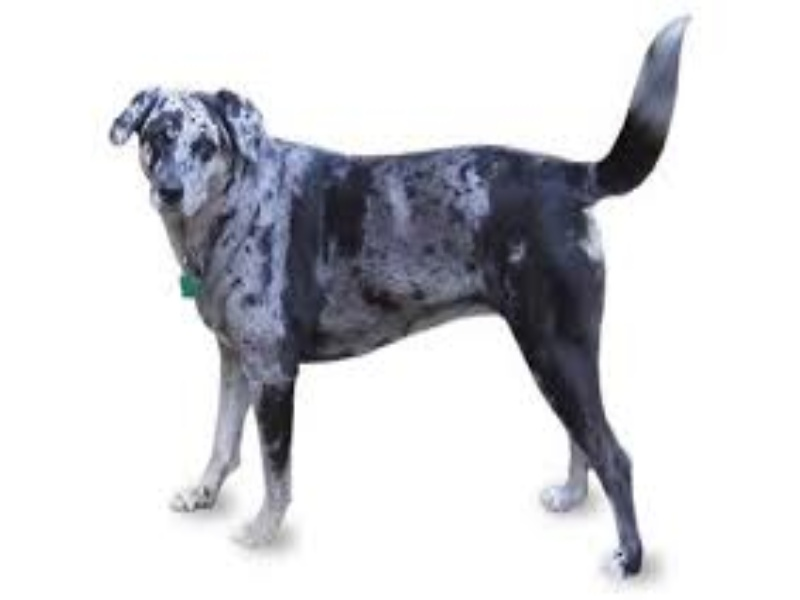dog: (85, 7, 720, 579)
